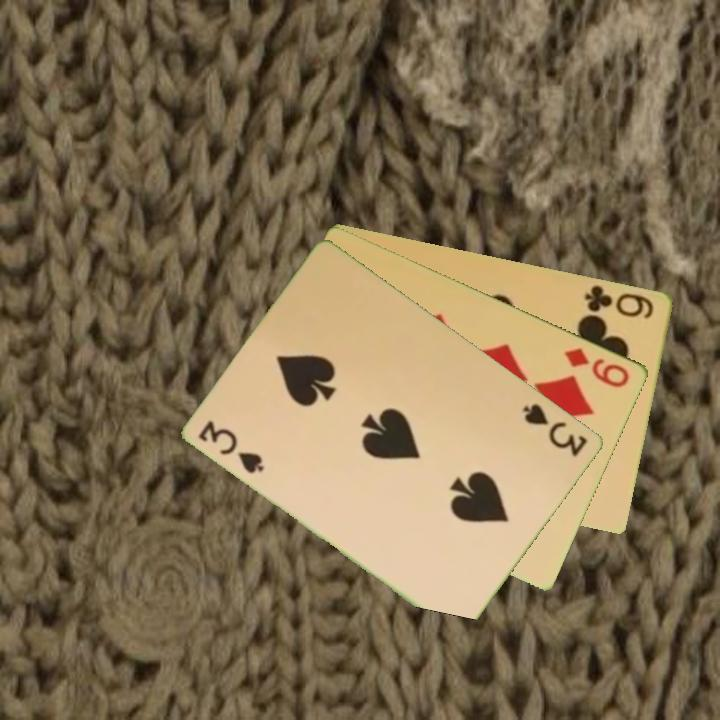3s: (195, 416, 268, 477), (520, 399, 591, 460)
6c: (581, 281, 657, 321)
9d: (561, 343, 633, 391)
